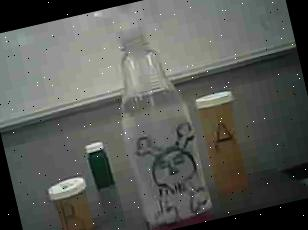Bottle A: (194, 88, 256, 201)
Bottle B: (43, 173, 100, 230)
Bottle C: (82, 138, 118, 192)
hazard: (86, 0, 223, 230)
